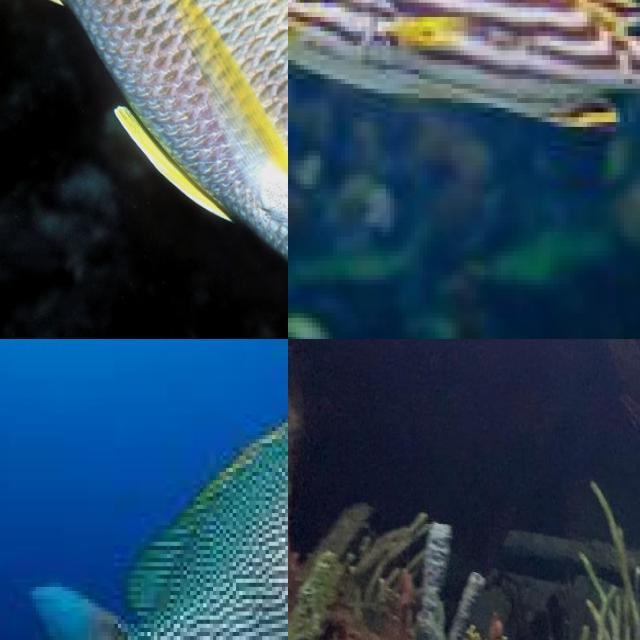fish: (0, 0, 288, 339), (0, 339, 288, 640), (288, 0, 640, 170)
